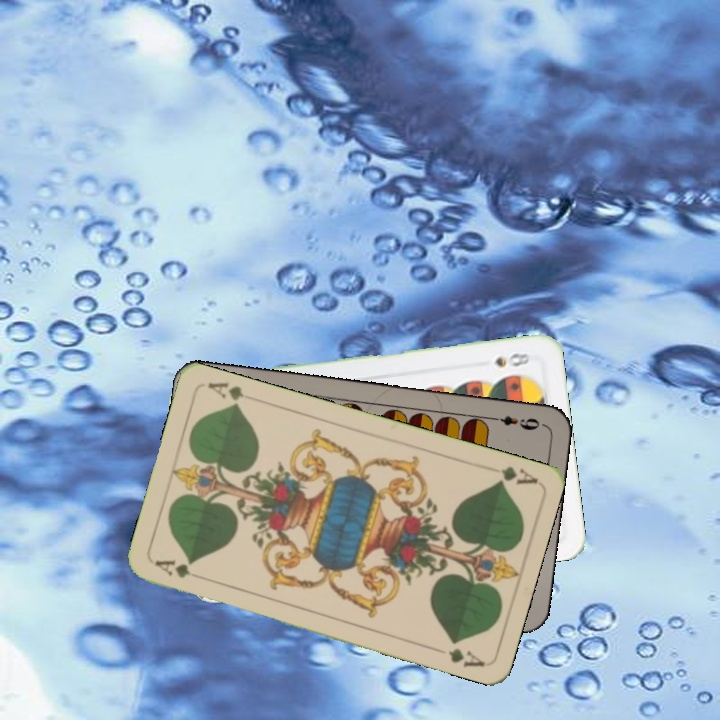E9: (486, 411, 546, 433)
GA: (150, 556, 208, 583), (491, 462, 539, 488)
S8: (491, 349, 533, 370)
